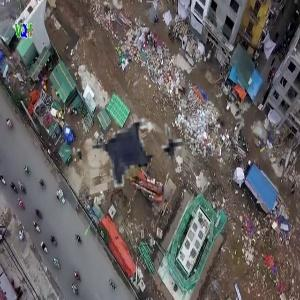drone: (50, 92, 201, 243)
